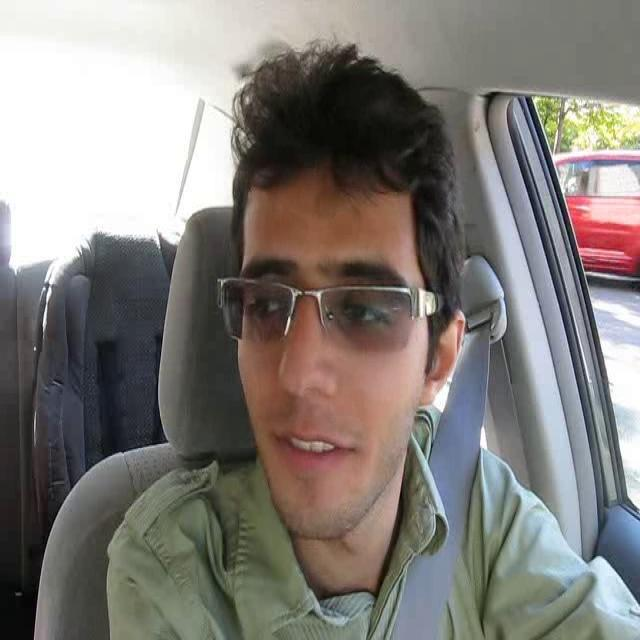close: (264, 425, 362, 472)
